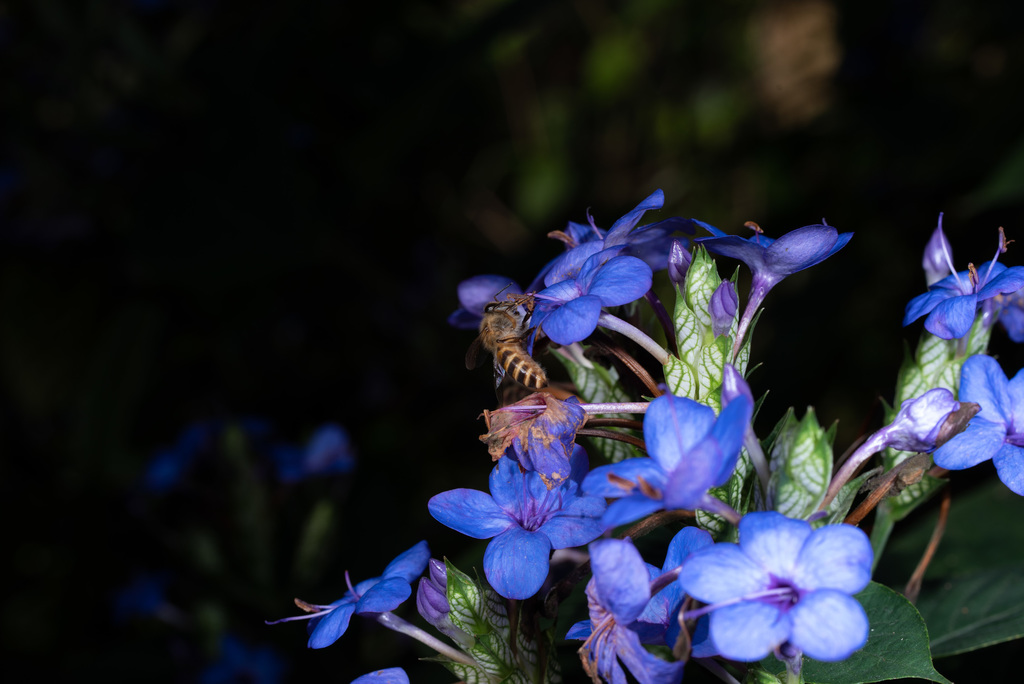not_bumblebee: (449, 285, 551, 390)
